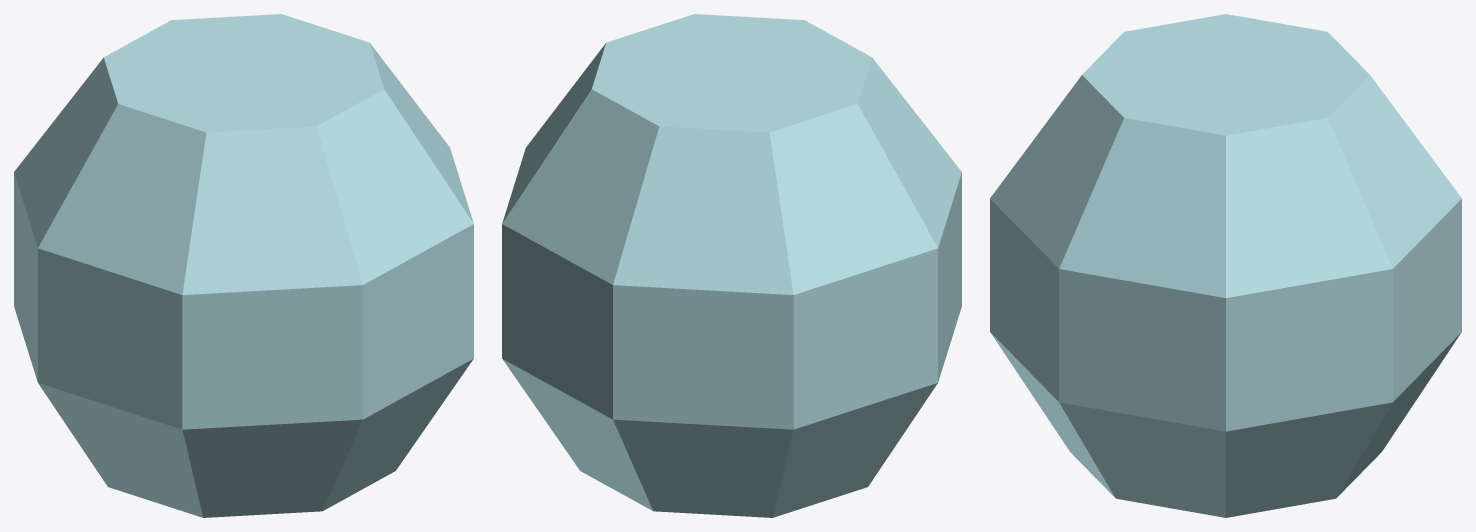
The model's file is stone_smallH.dae.
3 views of the same model, side by side, from view 1: azimuth 30°, elevation 25°; view 2: azimuth 150°, elevation 25°; view 3: azimuth 270°, elevation 25° (orthographic).
Visible parts, largest first — view 1: stone_smallH; view 2: stone_smallH; view 3: stone_smallH.
Part boxes in pixels (x1,y1,x2,y2): stone_smallH: (14,14,473,517); stone_smallH: (502,14,961,517); stone_smallH: (990,14,1461,517).
Size of the model in its own units: 0.4618 by 0.4074 by 0.4618.
